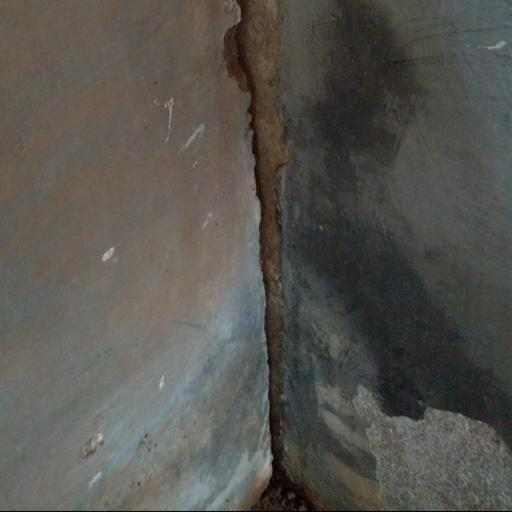major_crack: (176, 0, 324, 512)
